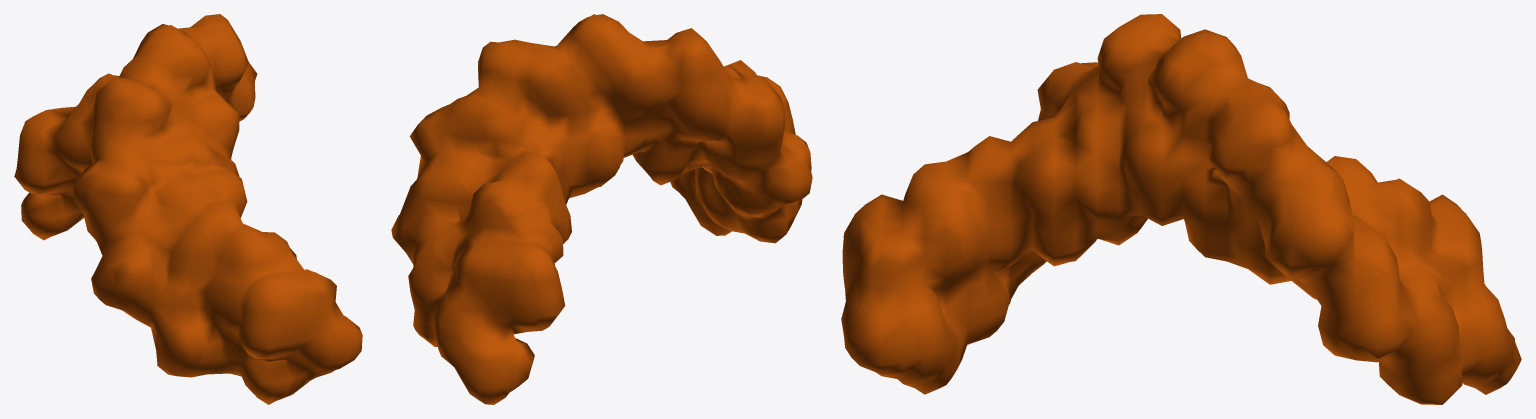
File: rna_one_turn.glb
The picture shows the model from 3 angles, left to right: view 1: azimuth 30°, elevation 25°; view 2: azimuth 150°, elevation 25°; view 3: azimuth 270°, elevation 25°; orthographic projection. The views are drawn at different scales.
Bounding box in the file's own units: 23.65 × 24.4 × 41.
